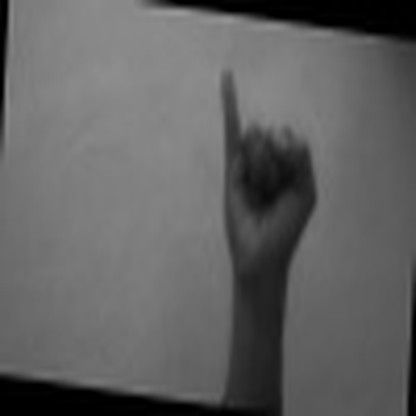i: (205, 63, 337, 288)
